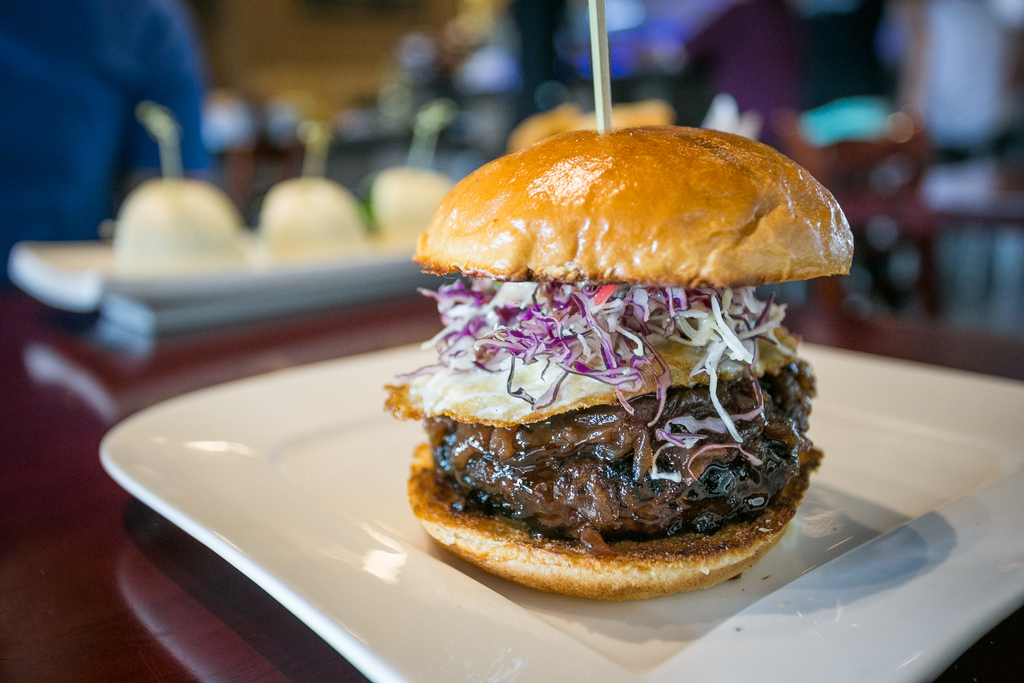Hamburger: (373, 125, 852, 594)
